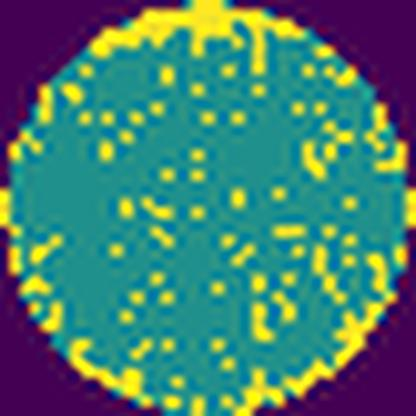Edge-Loc: (88, 0, 312, 81), (289, 250, 398, 402), (69, 337, 154, 408), (219, 364, 284, 415)
